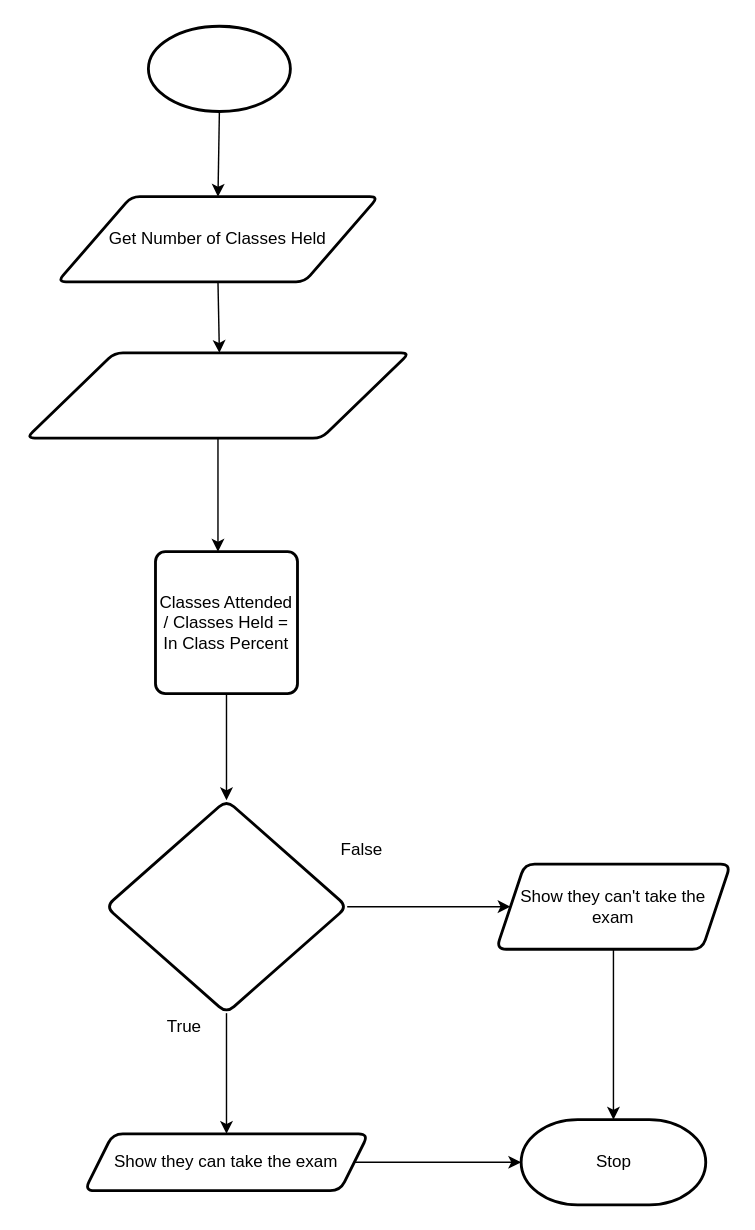
Image size: 755x1230. Some labels were removed from this diagram. The centre of each missing label's shape, as x and y in pixels:
Get Number of Classes Attended: the point at 217,395
If In Class Percent >= 75%: the point at 226,906
Start: the point at 218,68
